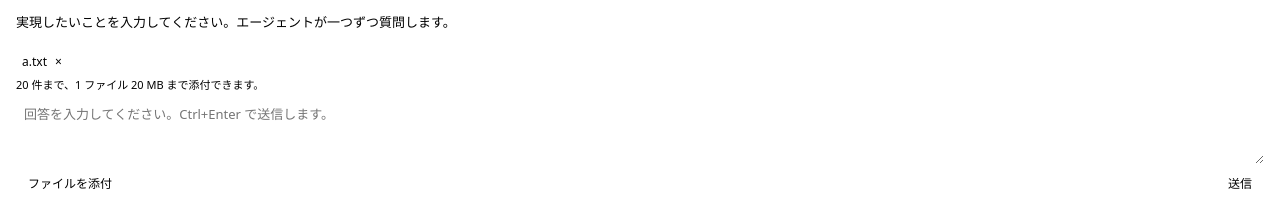
it: IntakeConversation › removes a draft
The width and height of the screenshot is (1280, 206).
Click the button with class "intake-drafts__remove" at point(58, 62), box [51,53,66,70]
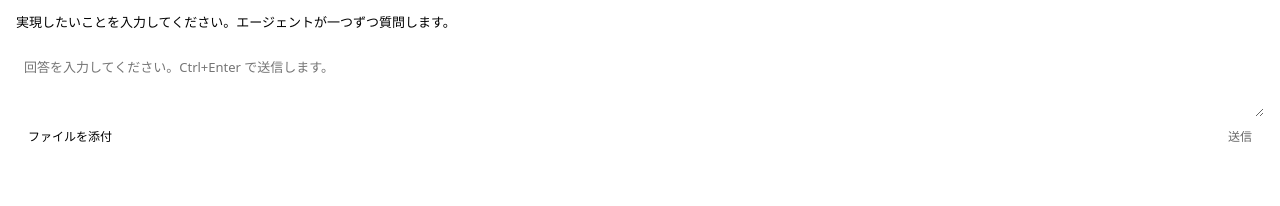
Check: the text with class "intake-drafts__name" is gone
